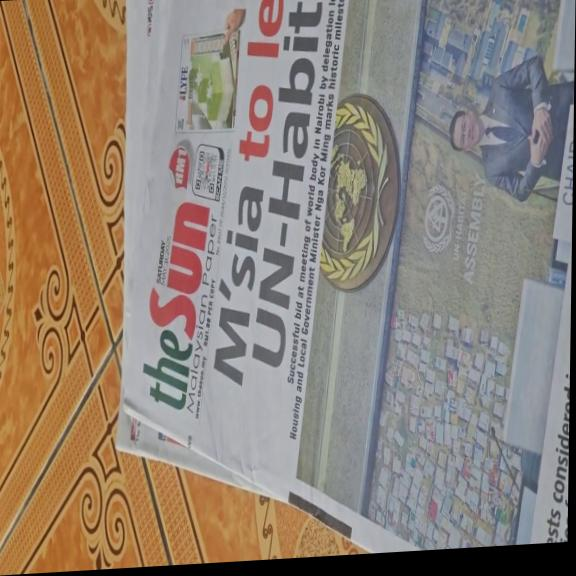Kertas: (122, 0, 567, 566)
